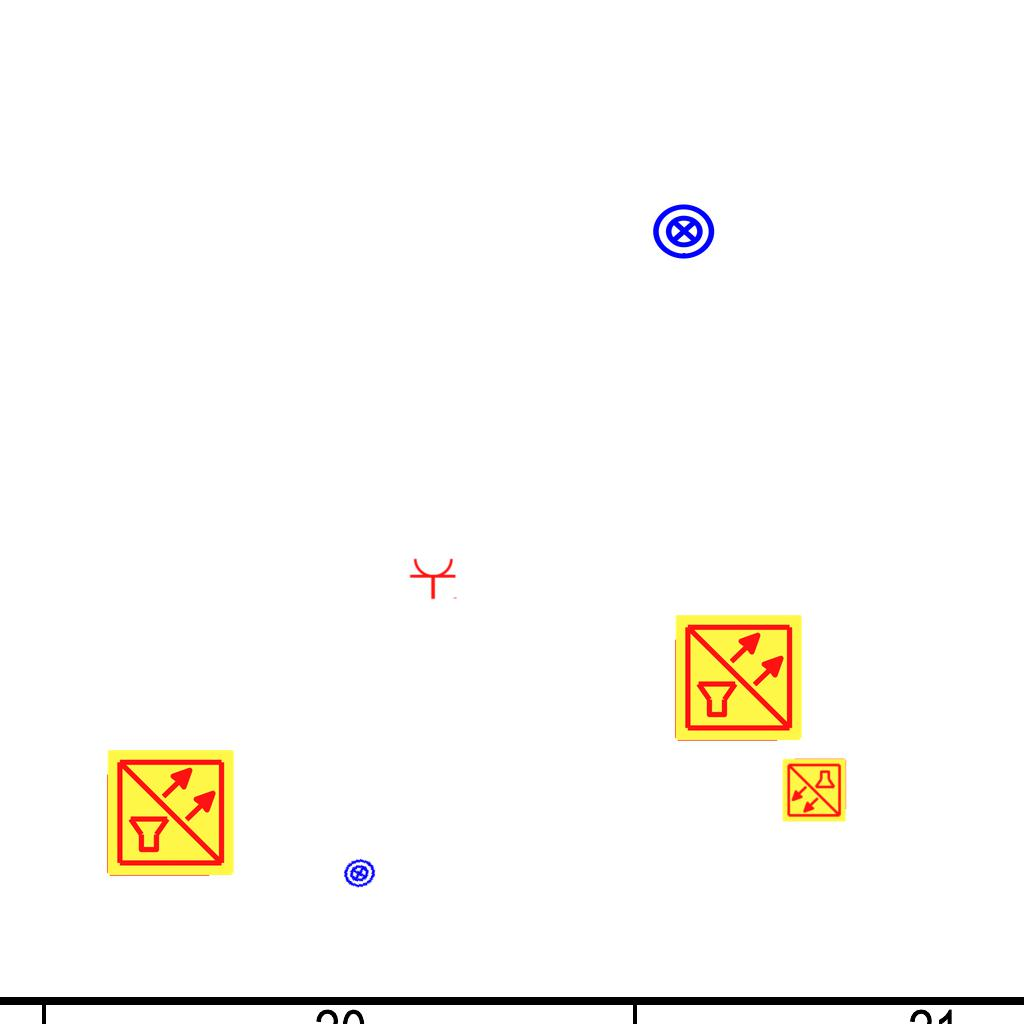OKW_Multisensormelder_(Kombination_optischer_Rauch-Kahlenmonoxid_Waerme-Melder): (673, 612, 805, 744), (105, 747, 237, 879), (781, 757, 847, 823)
OT_Multisensormelder_(Kombination_RMO_WMD): (95, 743, 208, 856)
Schukosteckdose_einfach: (409, 557, 459, 600)
Taster_beleuchtet: (651, 198, 717, 264), (339, 853, 380, 894)
